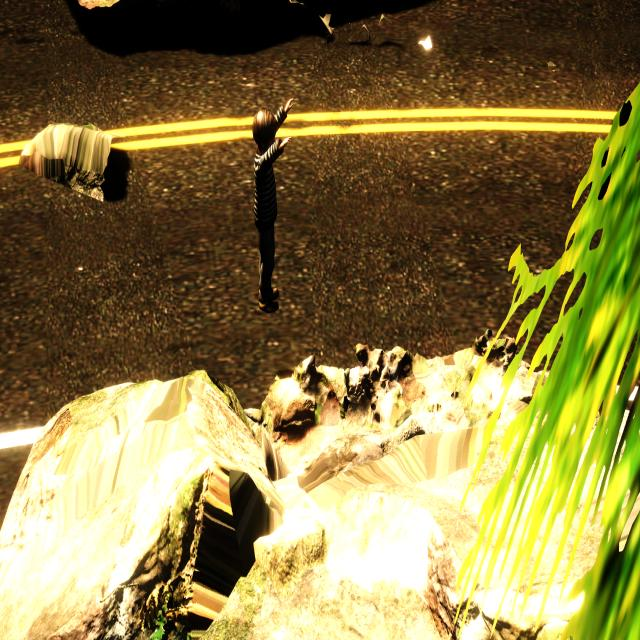Human: (246, 96, 298, 320)
